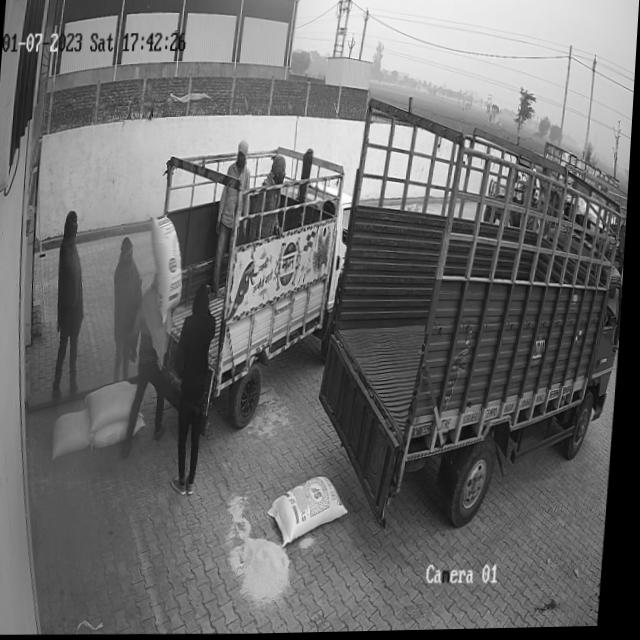sack: (270, 475, 355, 549), (145, 214, 190, 323), (88, 380, 142, 433), (55, 407, 97, 460), (97, 414, 150, 449)
